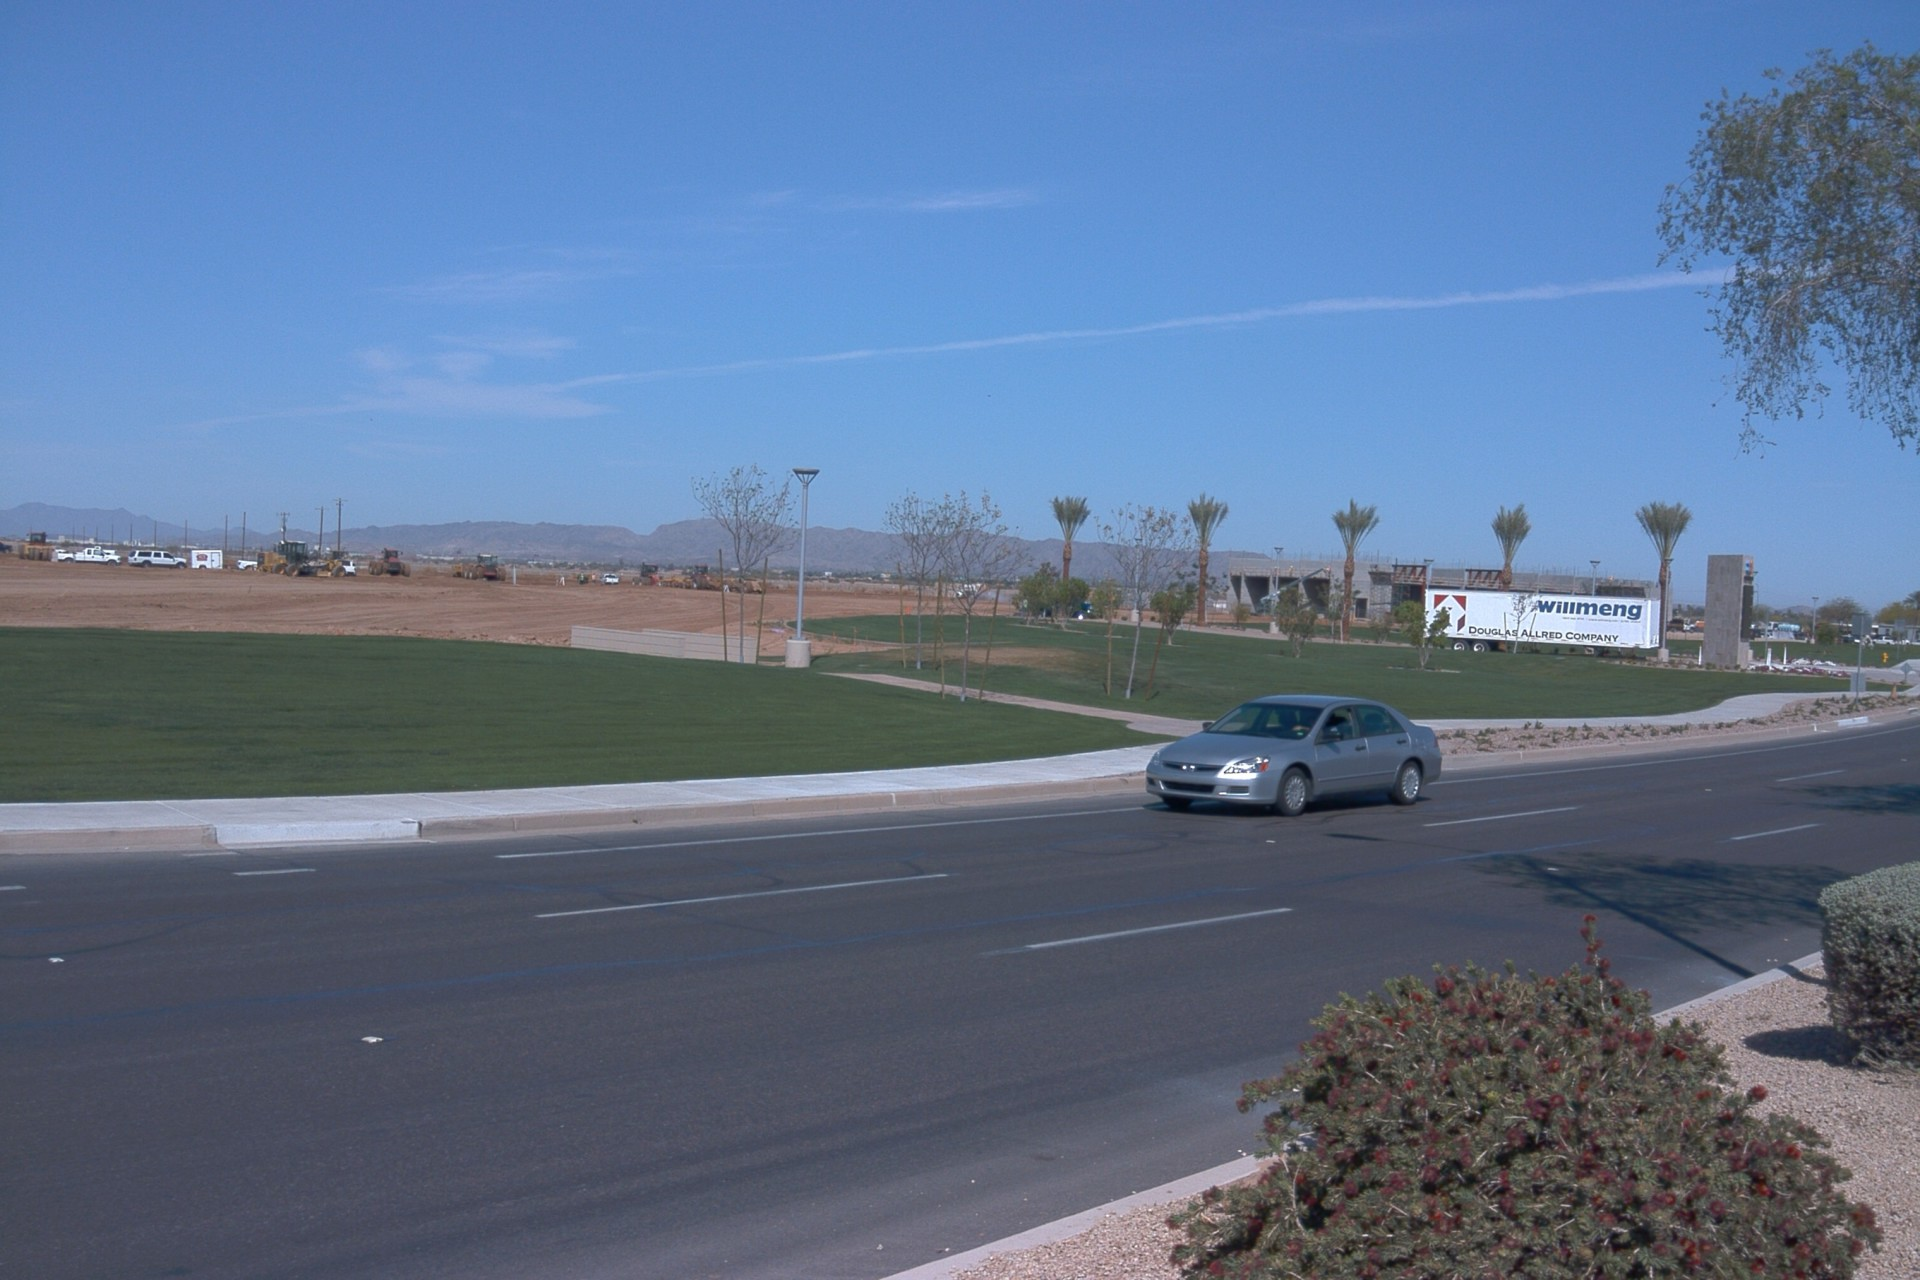TYPE_PEDESTRIAN: (1022, 601, 1031, 619), (578, 571, 586, 586), (590, 573, 598, 586)
TYPE_VEHICLE: (1145, 696, 1443, 819), (1418, 586, 1671, 659), (248, 542, 350, 585), (1260, 563, 1334, 614), (1020, 590, 1105, 616), (453, 552, 509, 585), (368, 547, 411, 579), (57, 548, 123, 567), (127, 549, 188, 568), (949, 579, 992, 599), (187, 548, 223, 568), (84, 540, 120, 553), (322, 549, 353, 563), (333, 560, 352, 577), (236, 558, 257, 572), (607, 575, 625, 589), (0, 539, 11, 553), (52, 546, 71, 551)
